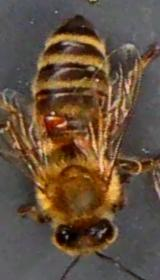varroa_mite: (38, 108, 75, 134)
